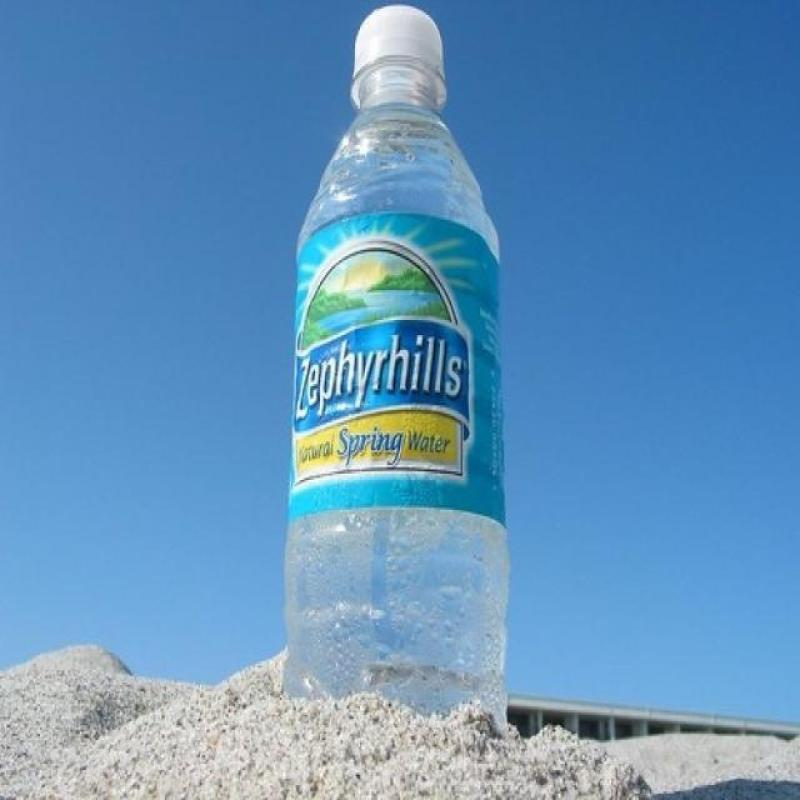botella: (280, 5, 509, 730)
